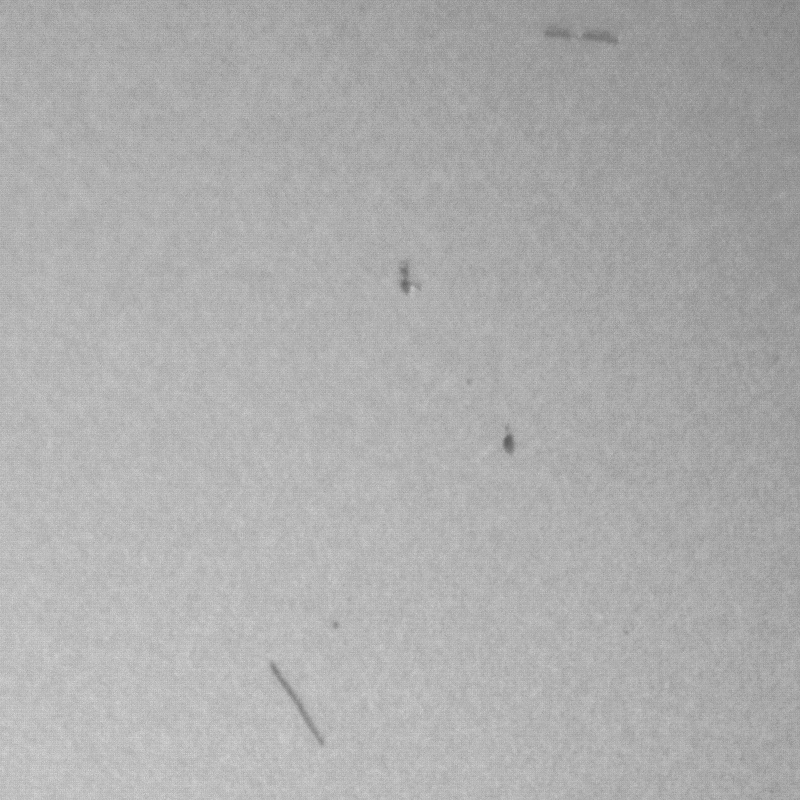defect: (266, 657, 333, 758), (540, 28, 634, 47), (394, 257, 422, 298), (326, 616, 353, 638), (503, 423, 518, 455), (460, 373, 483, 393)
